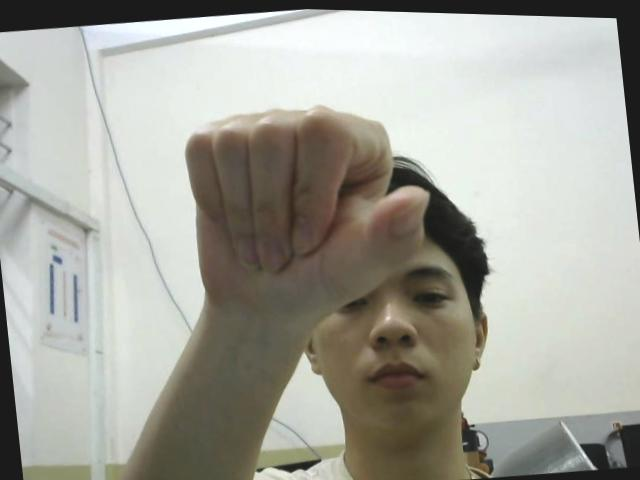A: (180, 86, 440, 329)
